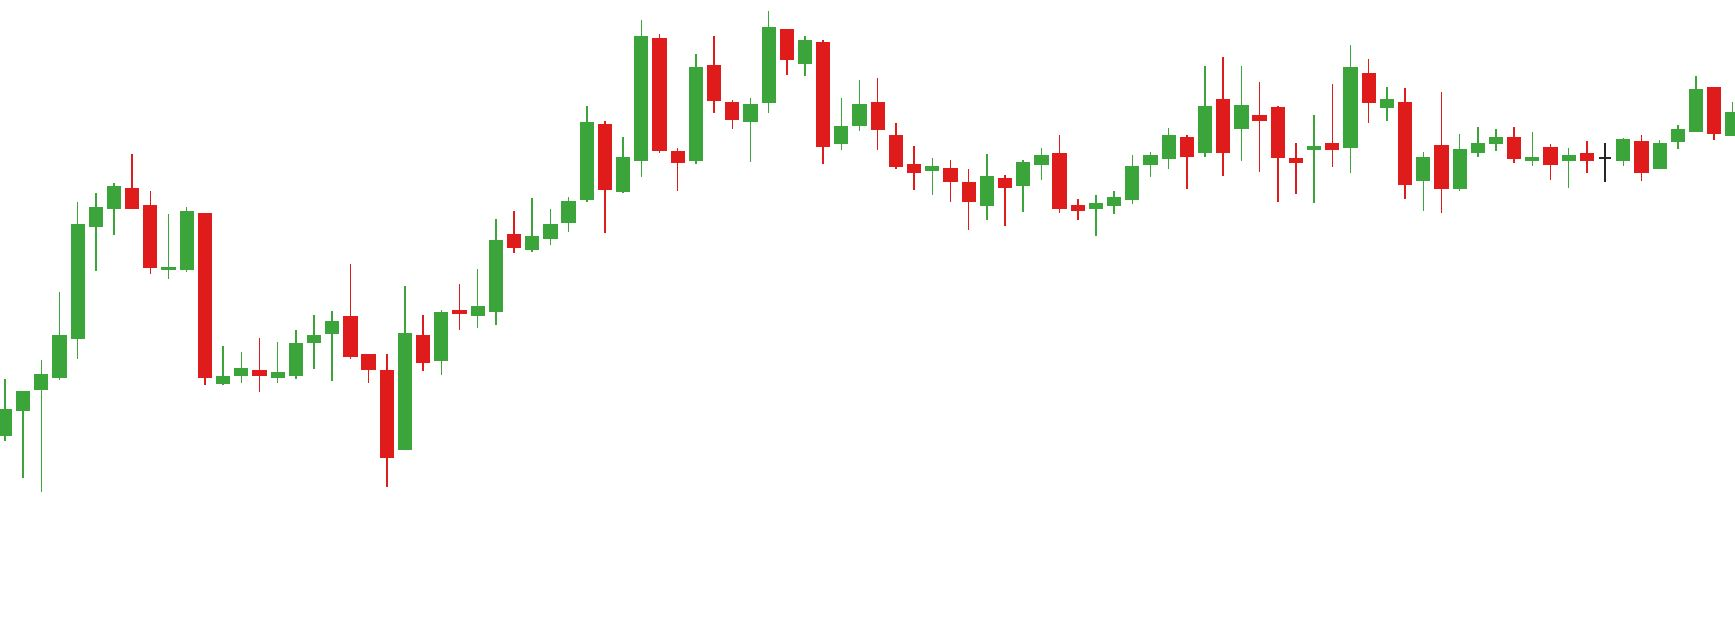sell: (631, 10, 796, 124)
